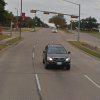Car: (36, 40, 75, 74)
